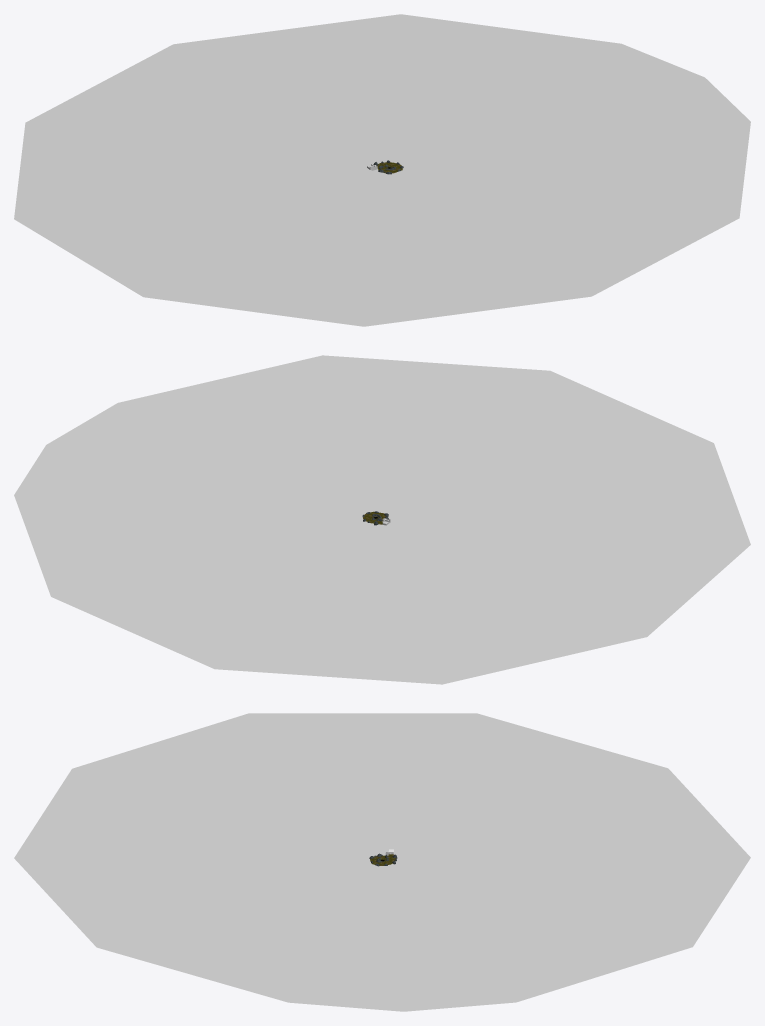
Rendered from visuals.fbx.
3 views of the same model, one above another, from view 1: azimuth 30°, elevation 25°; view 2: azimuth 150°, elevation 25°; view 3: azimuth 270°, elevation 25° (orthographic). The views are drawn at different scales.
Parts seen in each view (by area): view 1: visual.002; view 2: visual.002; view 3: visual.002.
Boxes of the visible parts, x1,y1,x2,y2 form: visual.002: [14, 14, 750, 326]; visual.002: [14, 355, 750, 684]; visual.002: [14, 713, 750, 1011].
Size of the model in its own units: 141634 by 3878 by 143140.
